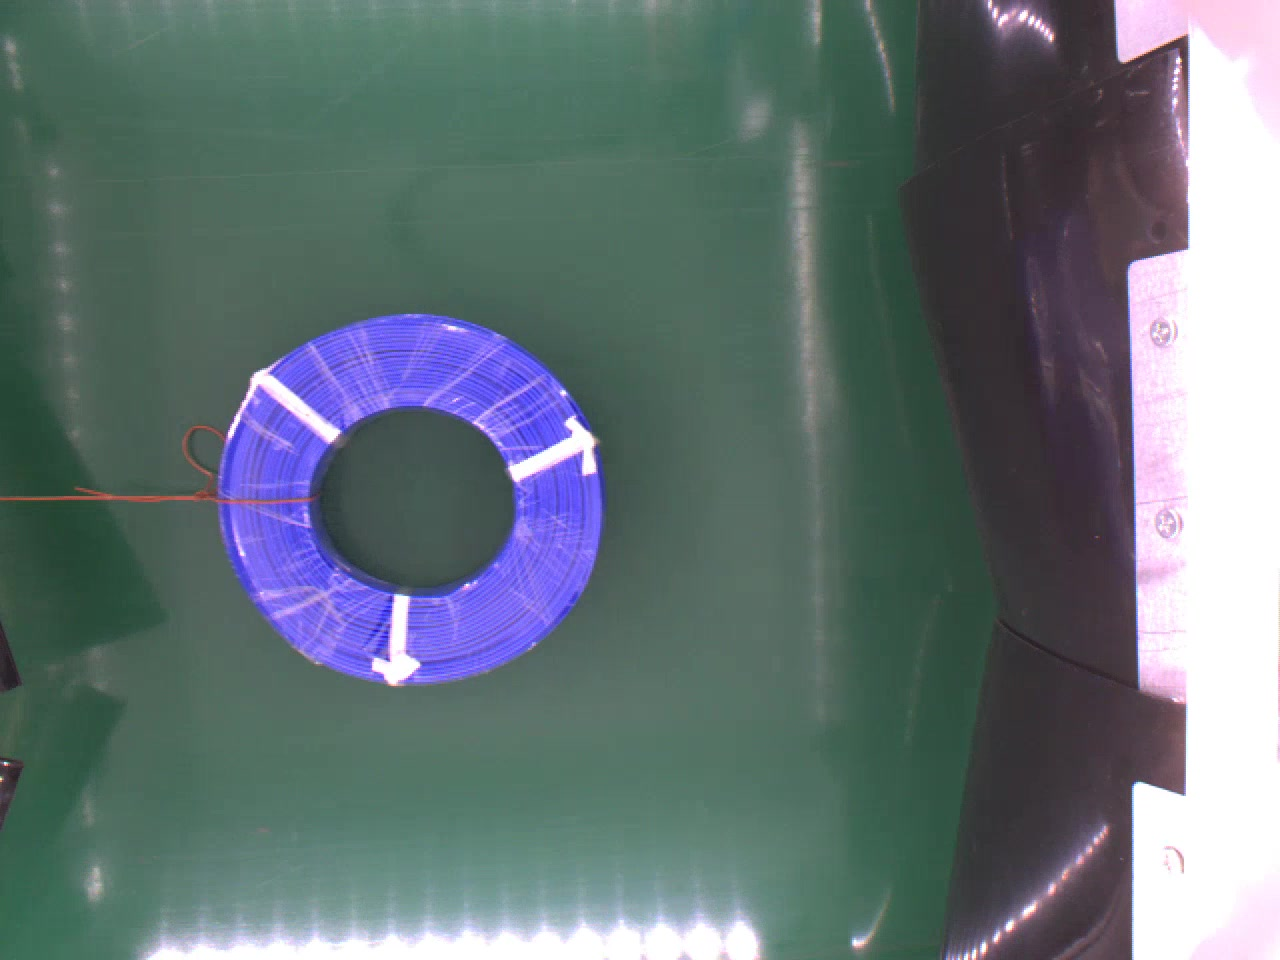blue: (213, 305, 608, 687)
